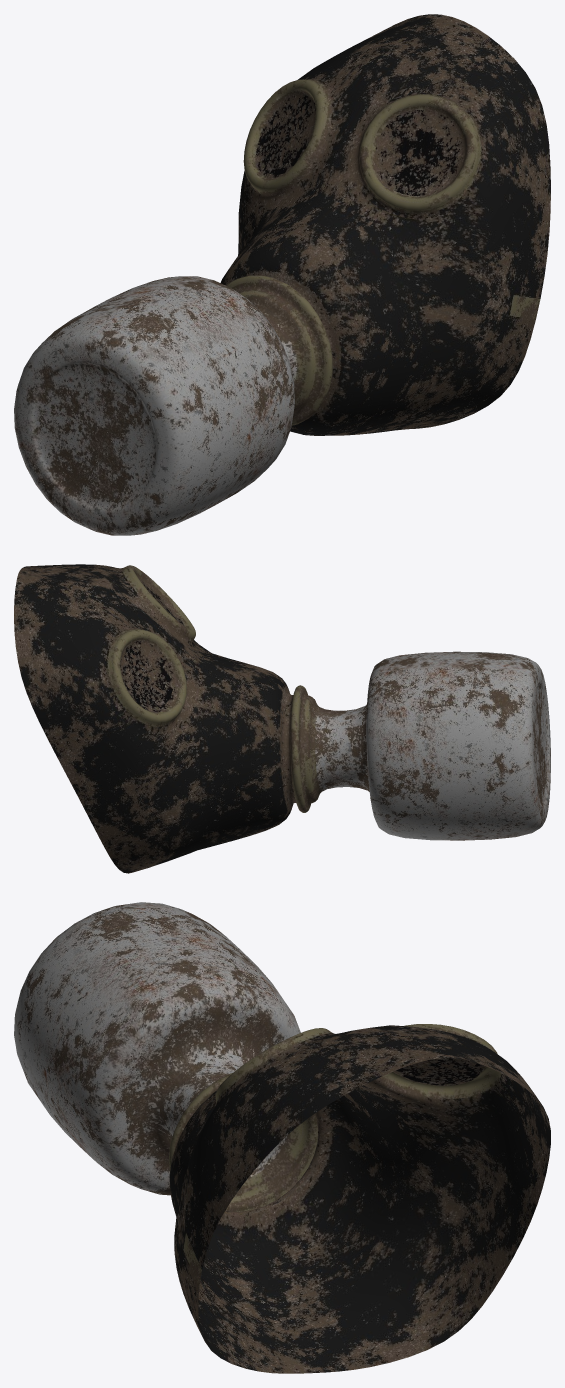
The model's file is gasmask.glb.
The picture shows the model from 3 angles, top to bottom: view 1: azimuth 30°, elevation 25°; view 2: azimuth 150°, elevation 25°; view 3: azimuth 270°, elevation 25°; orthographic projection. The views are drawn at different scales.
Visible parts, largest first — view 1: Cube.001; view 2: Cube.001; view 3: Cube.001.
Part boxes in pixels (x1,y1,x2,y2): Cube.001: (14, 14, 550, 535); Cube.001: (14, 564, 550, 873); Cube.001: (14, 902, 550, 1373).
Bounding box in the file's own units: 1.01 × 0.5874 × 0.7595.
1 material, 1 textured.
